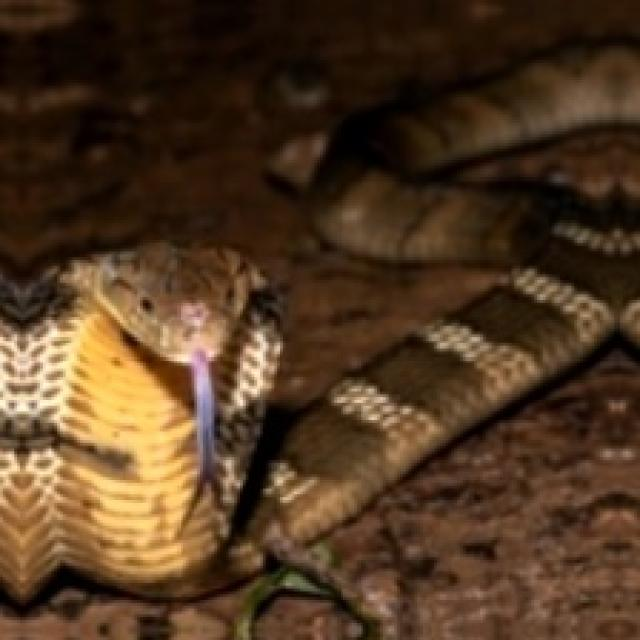king cobra: (0, 40, 637, 637), (0, 243, 280, 600)
